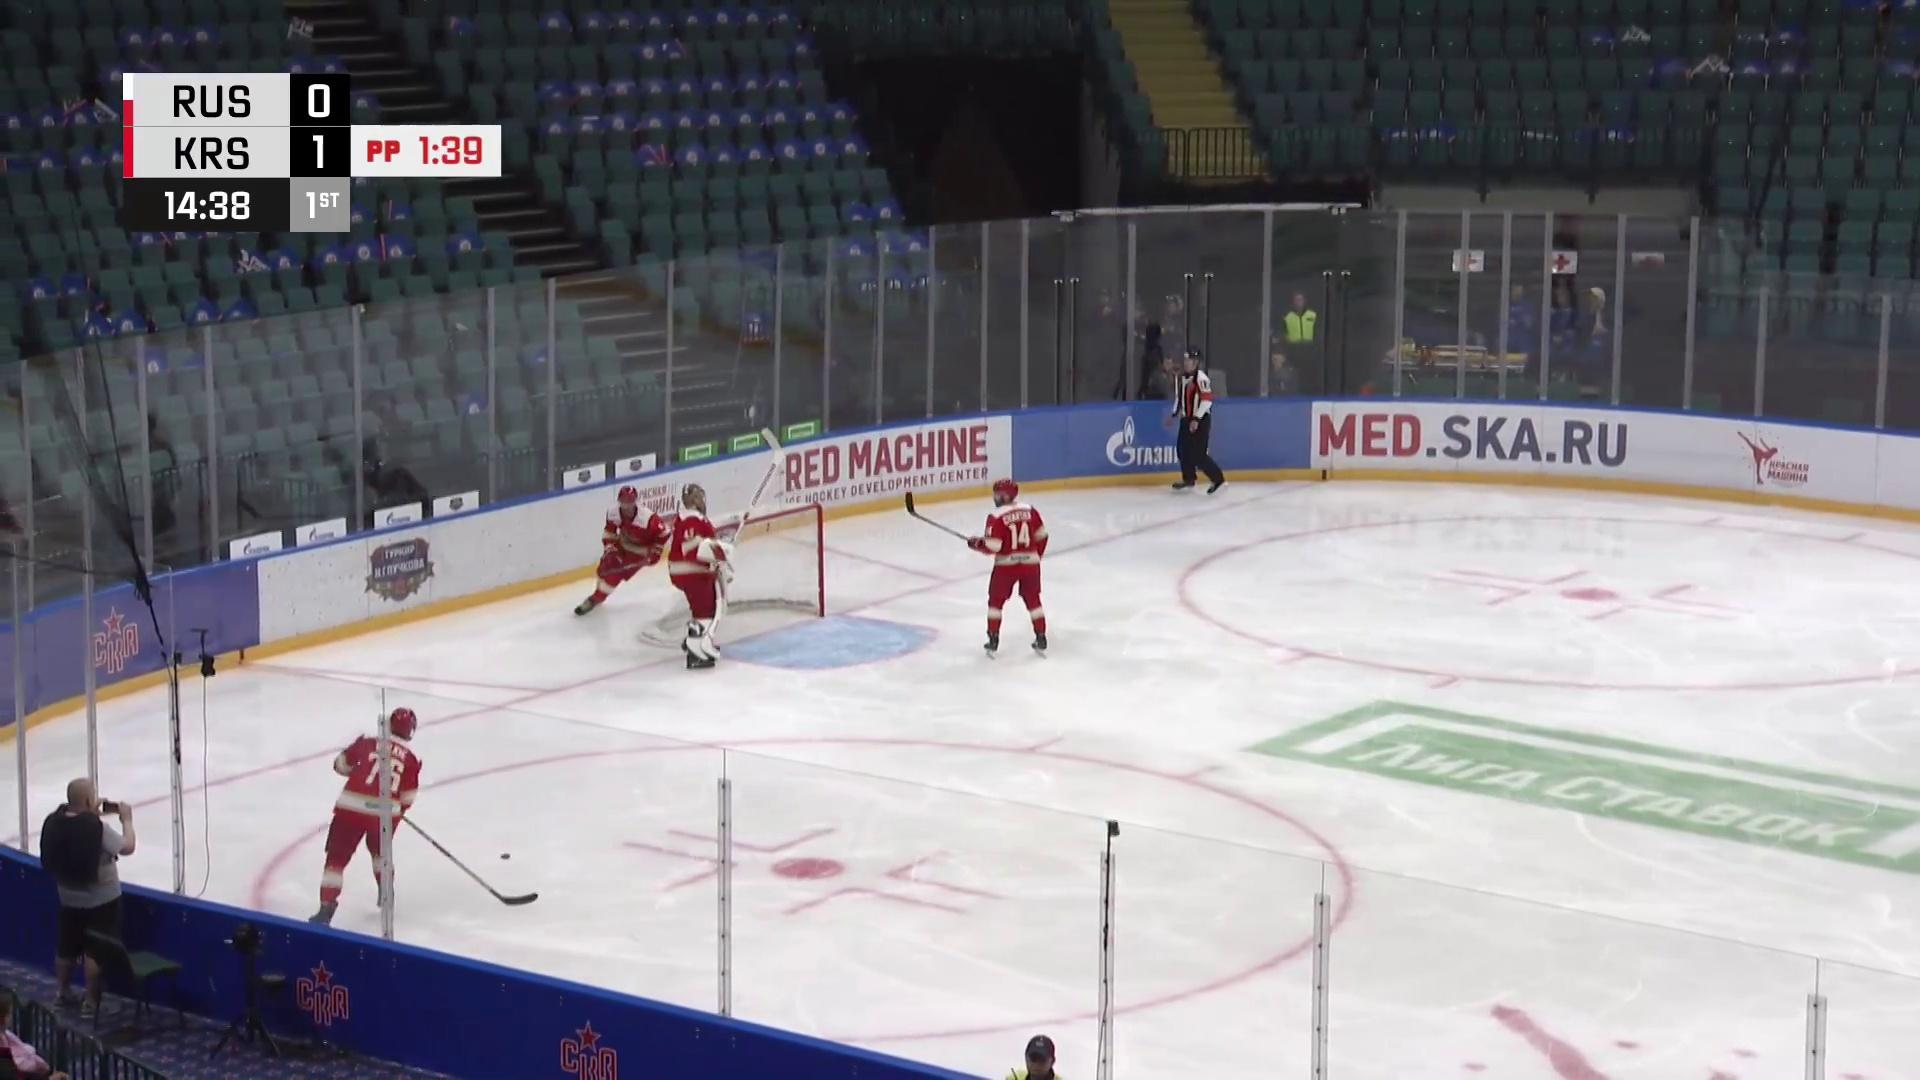ball: (498, 851, 513, 862)
